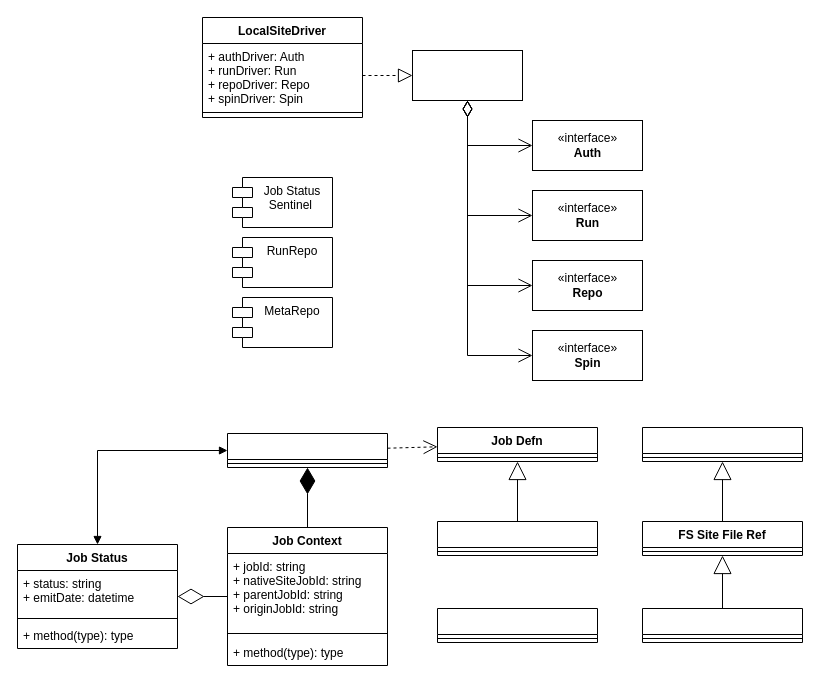
Some shapes in this 820 by 686 pixel diagram are drawn without their labels. The centre of each missing label's shape, as x and y in pixels:
Job: the point at 307,450
JobEventHandler: the point at 517,625
Remote FS Site File Ref: the point at 722,625
Repo Job Defn: the point at 517,538
SiteFileRef: the point at 722,444
«interface» Site: the point at 467,75
